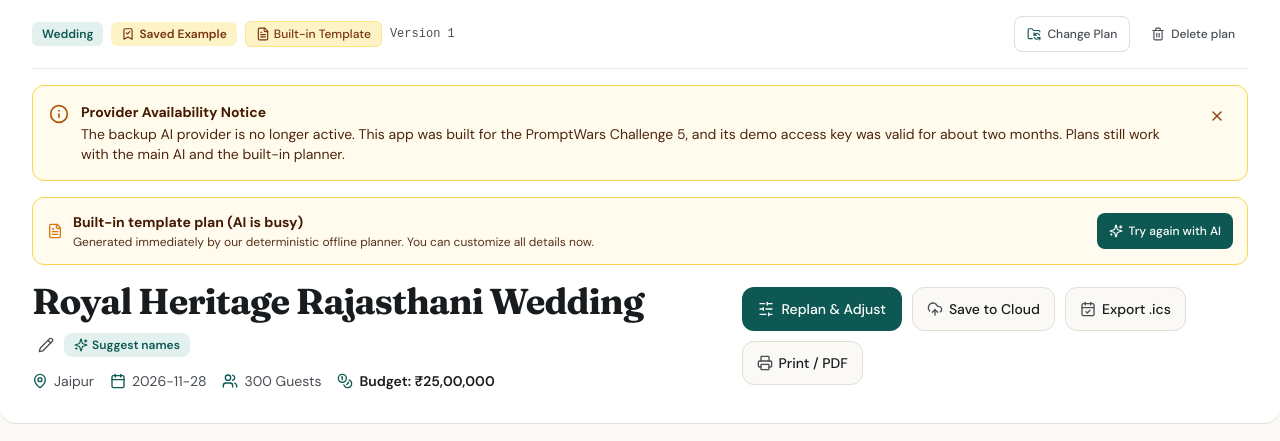
Test: Non-Primary Plan UI Indicators & "Try again with AI" Flow › renders calm, dismissible provider notice when backup demo key is inactive
Expected: the message with test id "provider-notice" is shown, [32,85,1248,181]
Expected: the text "Provider Availability Notice" is shown, [81,103,266,121]
Click the button named "Dismiss provider notice".
click(1217, 116)  # box [1203,102,1231,130]
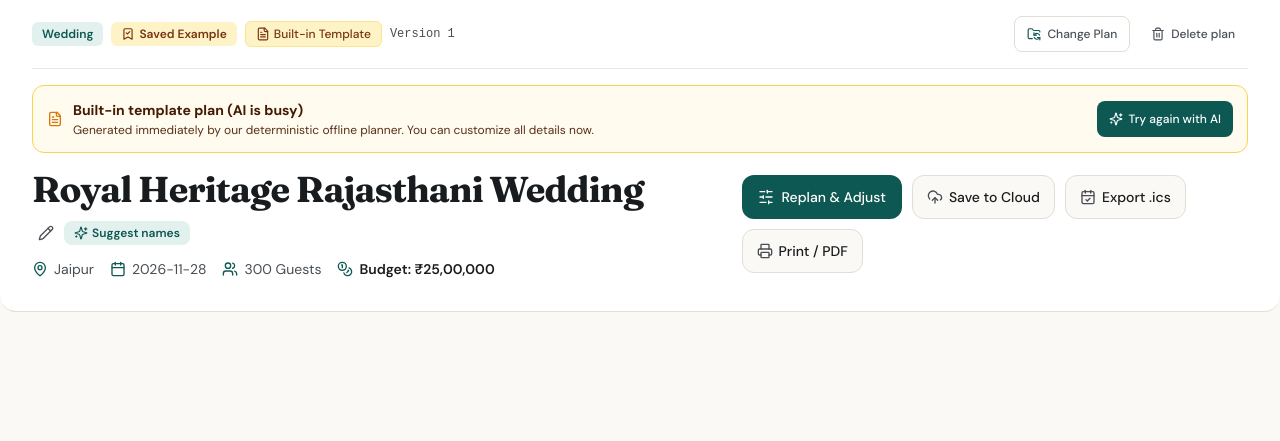
Expected: the text "The backup AI provider is no longer active. This app was built for the PromptWars Challenge 5, and its demo access key w" is gone
